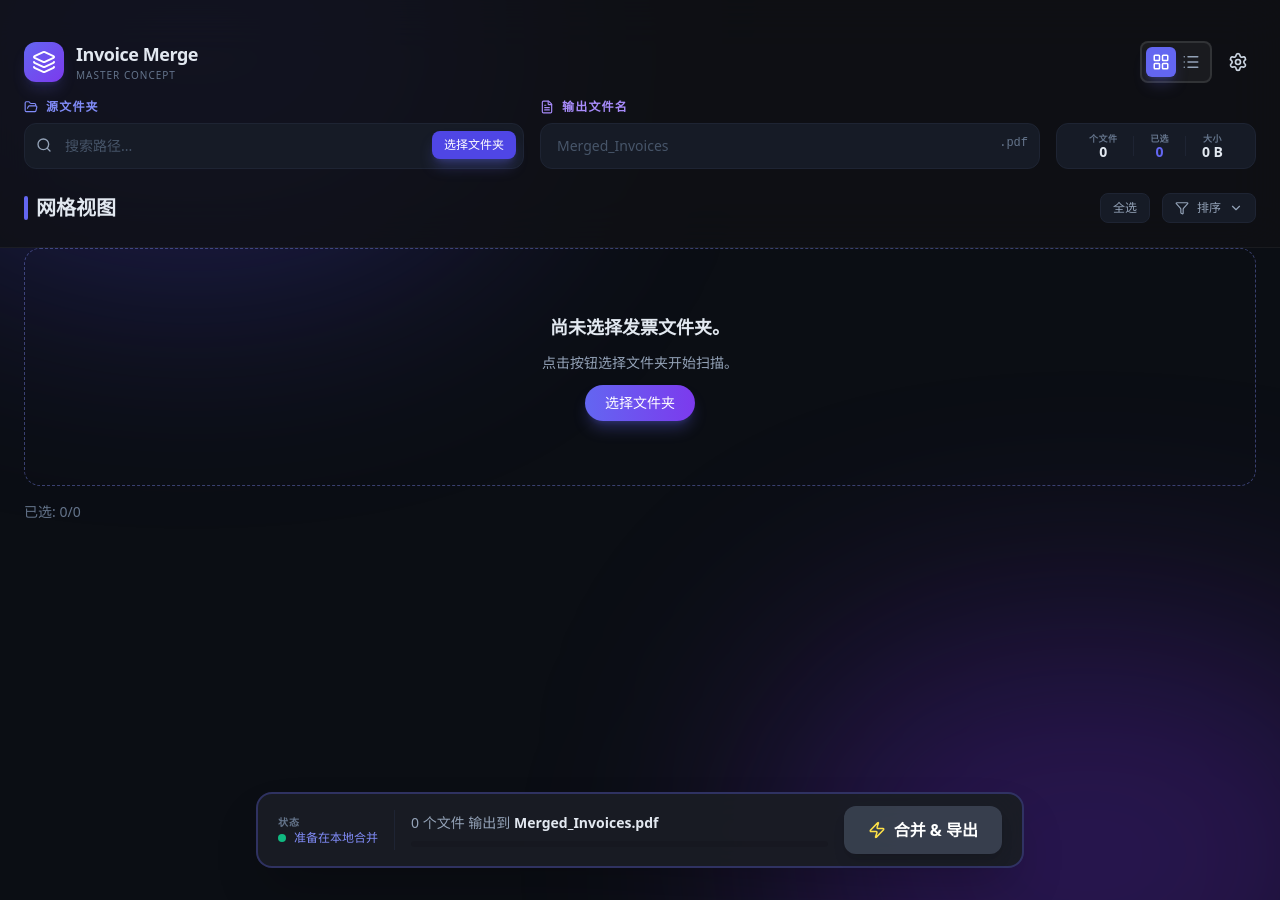
it: App › keeps the latest overlapping source selection
The width and height of the screenshot is (1280, 900).
Step 1. Click the button "选择文件夹" in the row of "0 B" → (474, 145), box [432,131,516,159]
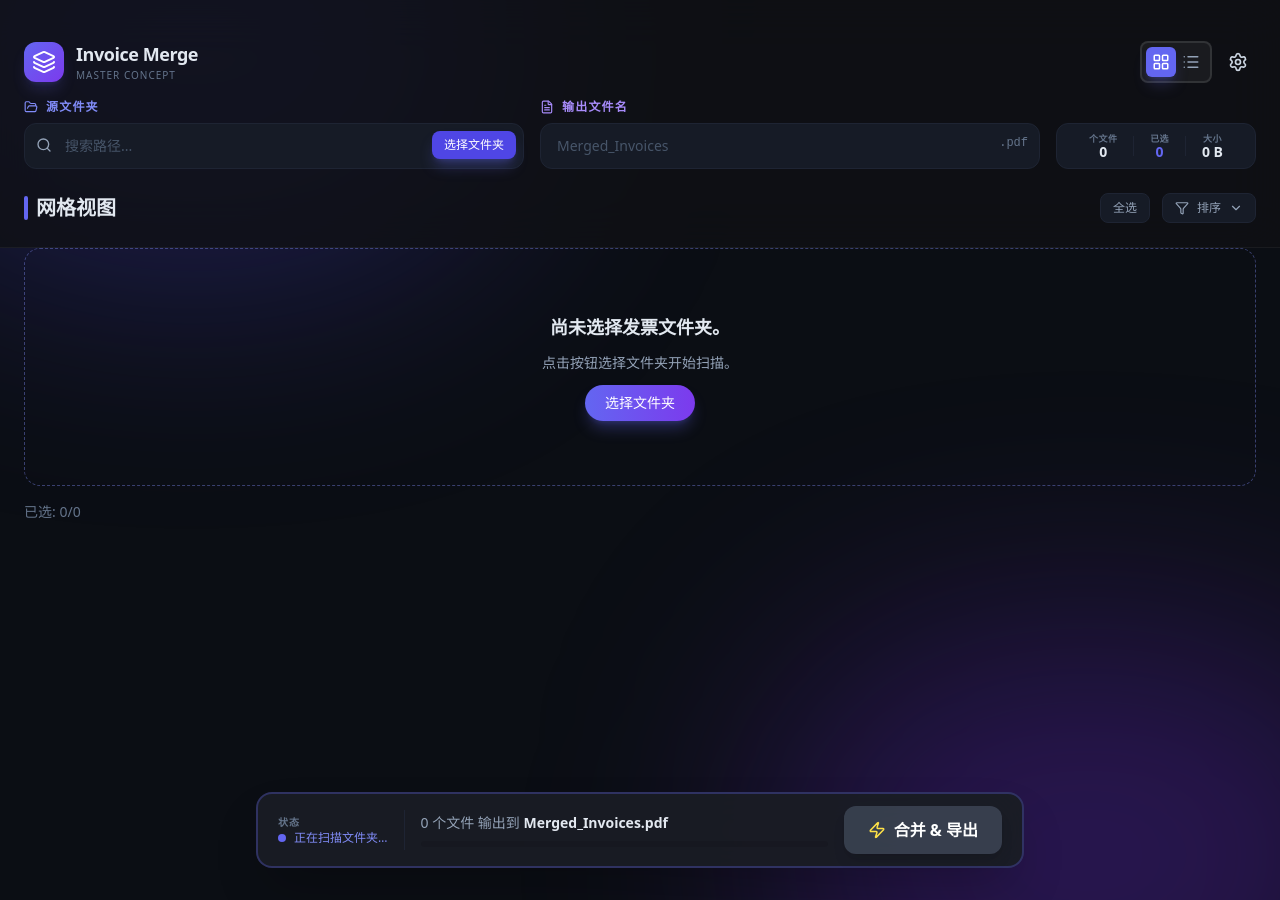
Step 2. Click the button "选择文件夹" in the row of "0 B" → (474, 145), box [432,131,516,159]
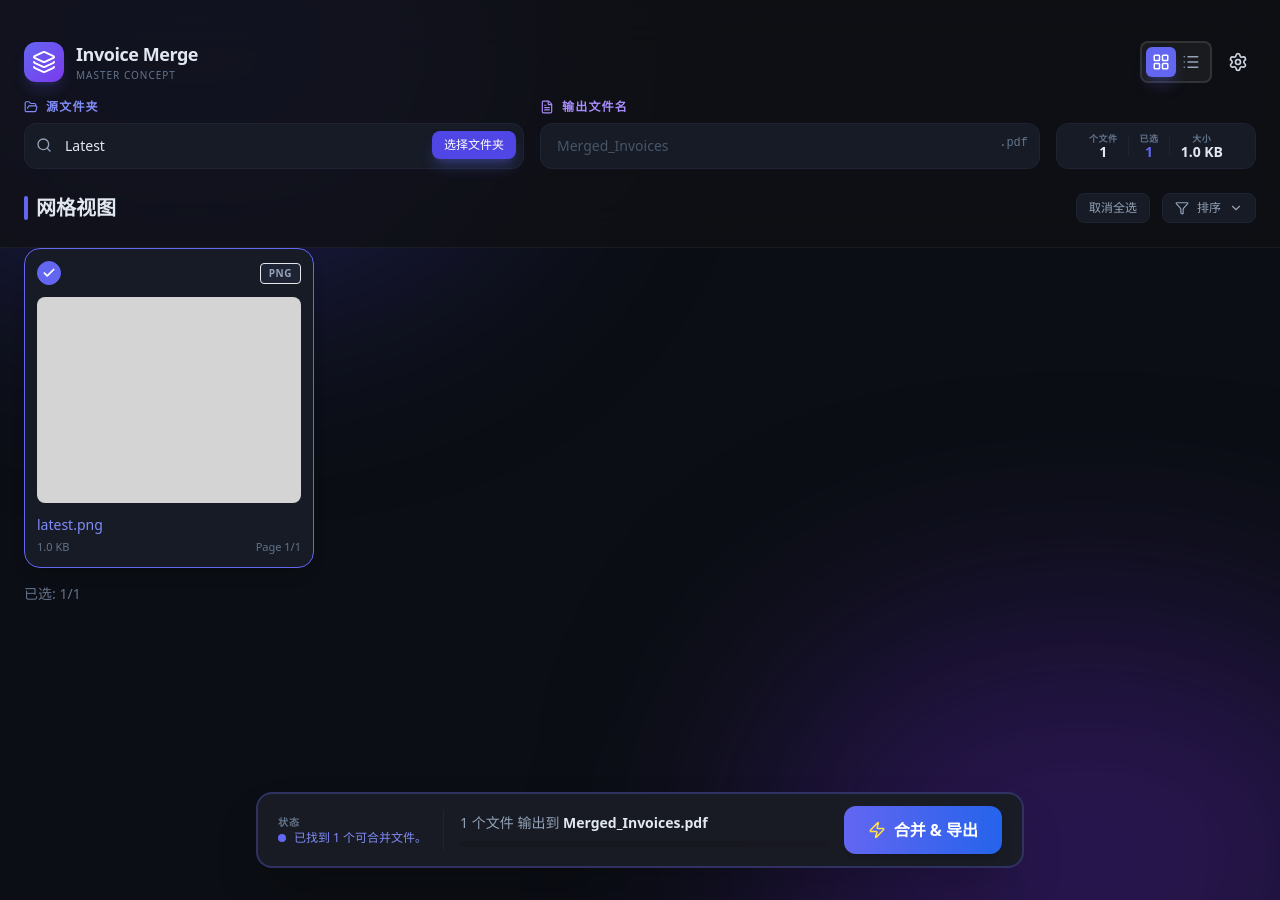
Expected: the field showing "Latest" is shown, [24,123,524,169]
Expected: the text "latest.png" is shown, [37,514,103,534]
